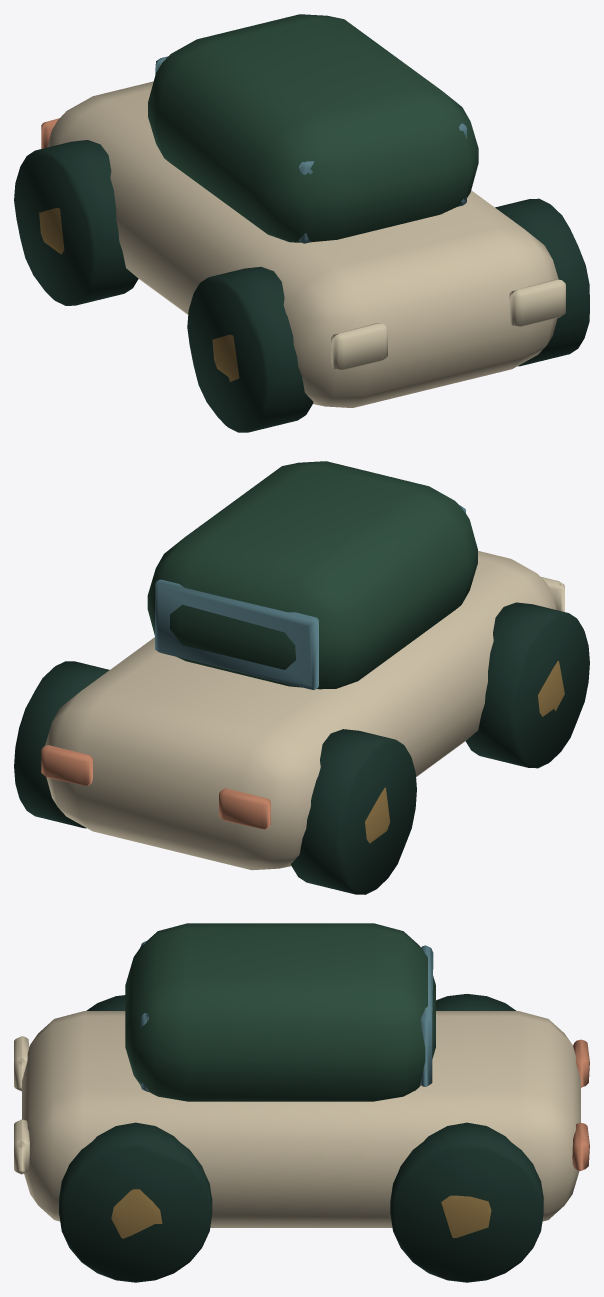
The model's file is car-proxy.glb.
3 renders of one model, top to bottom at view 1: azimuth 30°, elevation 25°; view 2: azimuth 150°, elevation 25°; view 3: azimuth 270°, elevation 25°, orthographic. The views are drawn at different scales.
Visible parts, largest first — view 1: ToyCar; view 2: ToyCar; view 3: ToyCar.
Part boxes in pixels (bbox=[...]): ToyCar: bbox=[14, 14, 589, 432]; ToyCar: bbox=[14, 461, 589, 894]; ToyCar: bbox=[14, 923, 589, 1282].
Size of the model in its own units: 0.7016 by 0.5431 by 1.11.
